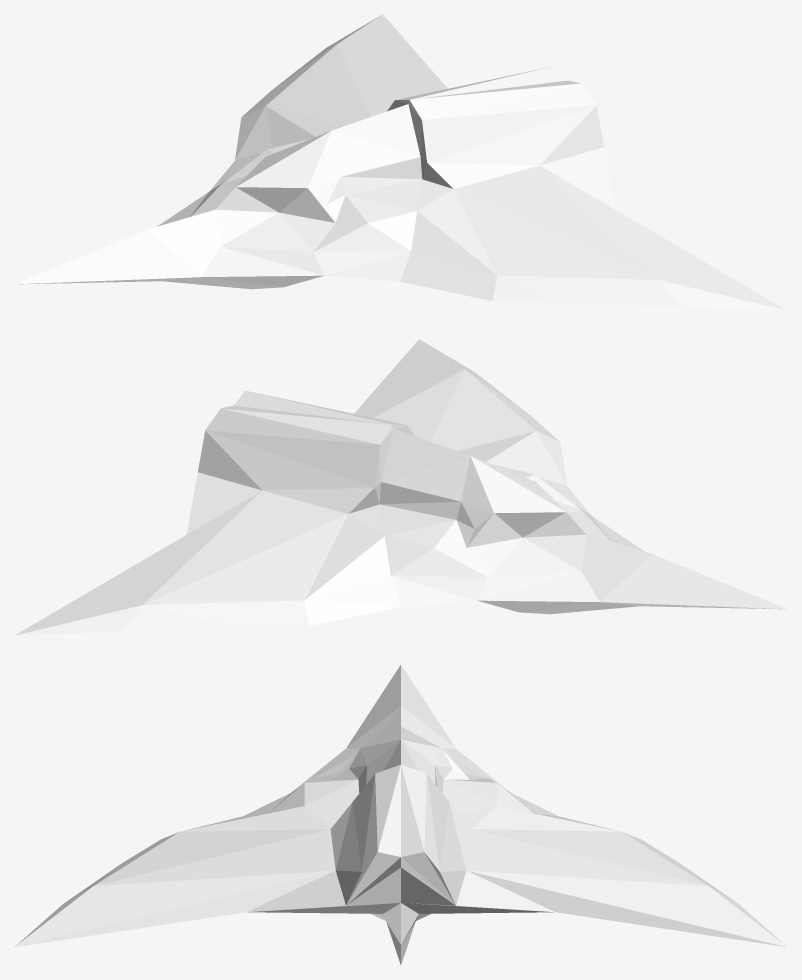
File: testPlayer.obj
3 renders of one model, top to bottom at view 1: azimuth 30°, elevation 25°; view 2: azimuth 150°, elevation 25°; view 3: azimuth 270°, elevation 25°, orthographic. The views are drawn at different scales.
Visible parts, largest first — view 1: 立方体; view 2: 立方体; view 3: 立方体.
Part boxes in pixels (x1=…): 立方体: x1=14, y1=14, x2=786, y2=310; 立方体: x1=15, y1=339, x2=787, y2=635; 立方体: x1=14, y1=665, x2=787, y2=964.
Bounding box in the file's own units: 4.58 × 1.26 × 5.63.
